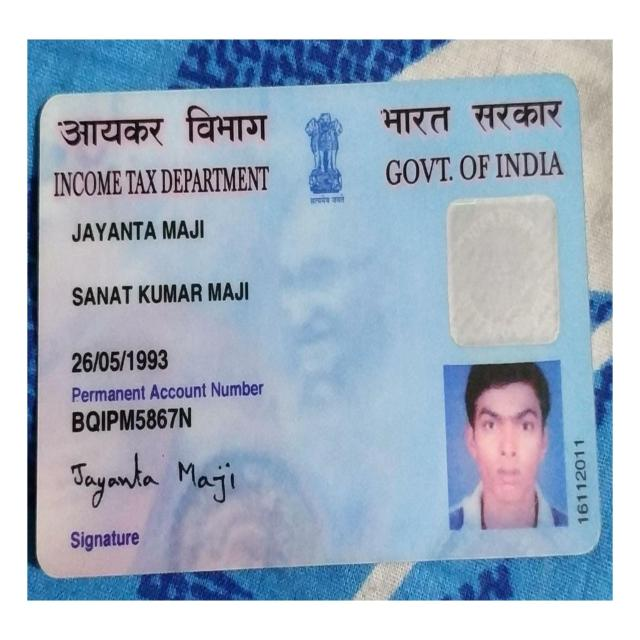pan_card: (42, 83, 598, 567)
